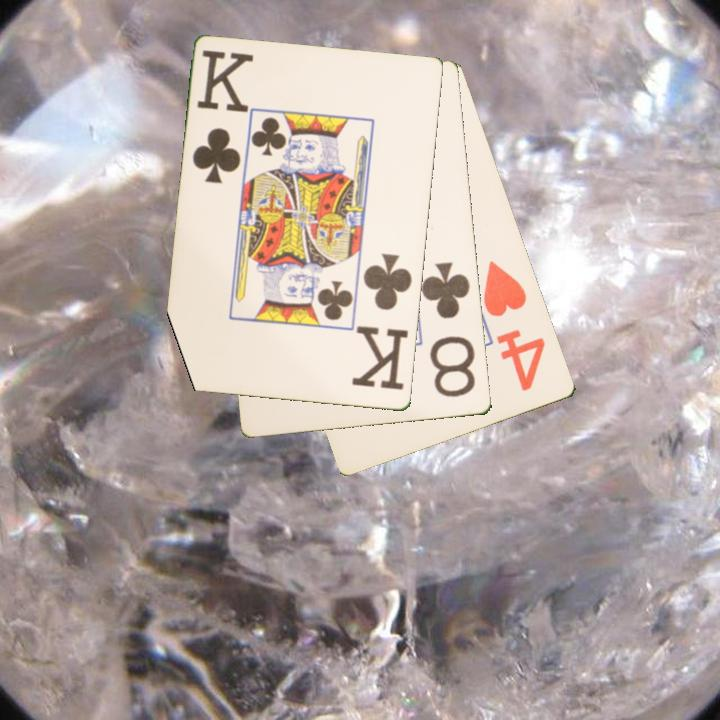4h: (480, 257, 549, 395)
8c: (418, 259, 479, 401)
Kc: (350, 250, 416, 394), (189, 47, 254, 187)
